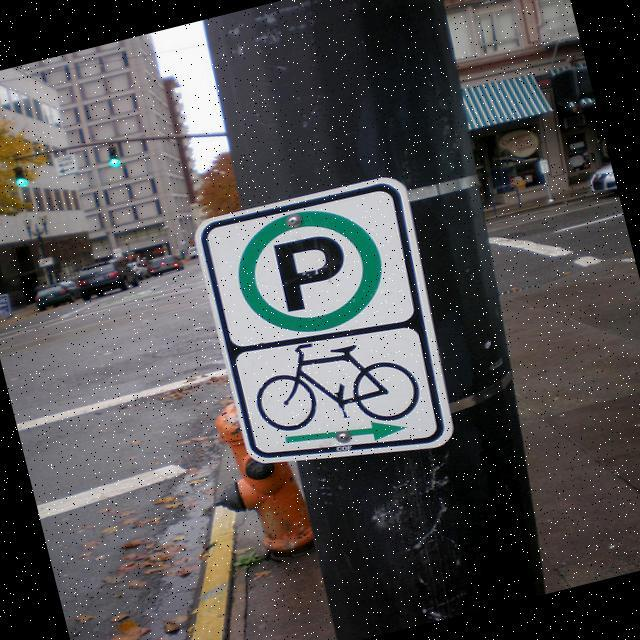fire_hydrant: (192, 390, 314, 569)
